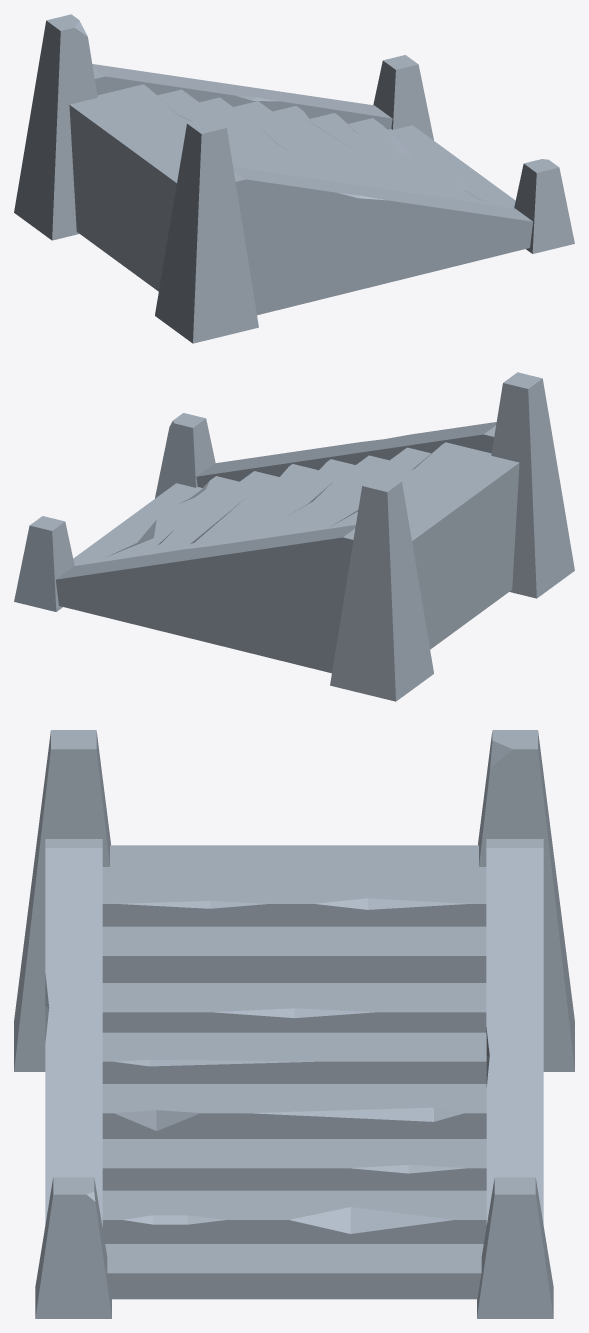
The model's file is stairs_1.fbx.
The picture shows the model from 3 angles, top to bottom: view 1: azimuth 30°, elevation 25°; view 2: azimuth 150°, elevation 25°; view 3: azimuth 270°, elevation 25°; orthographic projection. The views are drawn at different scales.
Visible parts, largest first — view 1: stairs_1; view 2: stairs_1; view 3: stairs_1.
Part boxes in pixels (left/top/right/bottom): stairs_1: left=14, top=14, right=574, bottom=343; stairs_1: left=14, top=372, right=574, bottom=701; stairs_1: left=14, top=730, right=574, bottom=1318.
Bounding box in the file's own units: 11.73 × 5.65 × 9.35.
